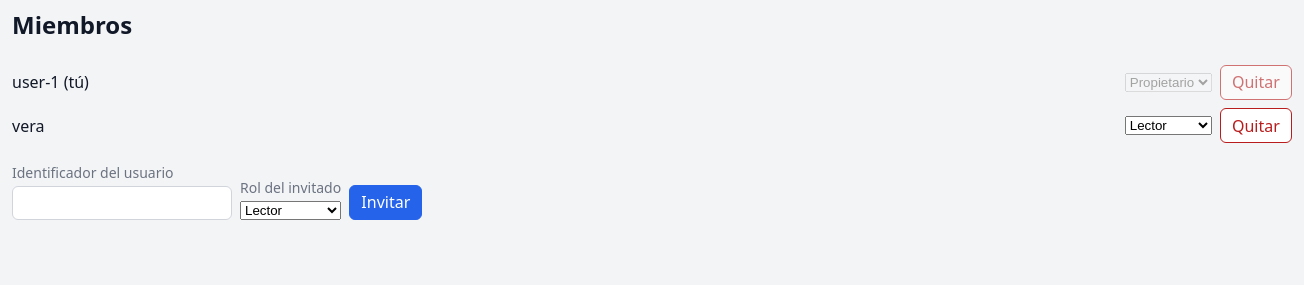
MembersPanel › invita por userId con un rol y limpia el campo
Step 1. Type "  kc-sub-9 " into the field labelled "Identificador del usuario" → (122, 203), box [12,186,232,220]
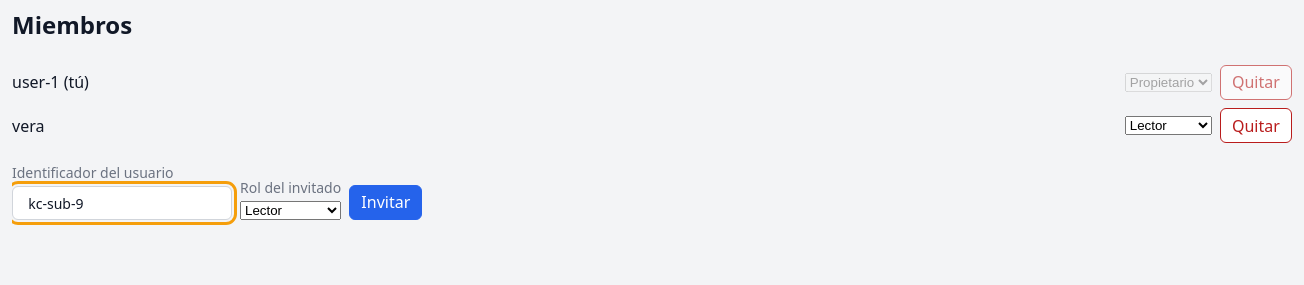
Step 2. Select "Editor" in the dropdown labelled "Rol del invitado" → (291, 210), box [240,201,341,220]
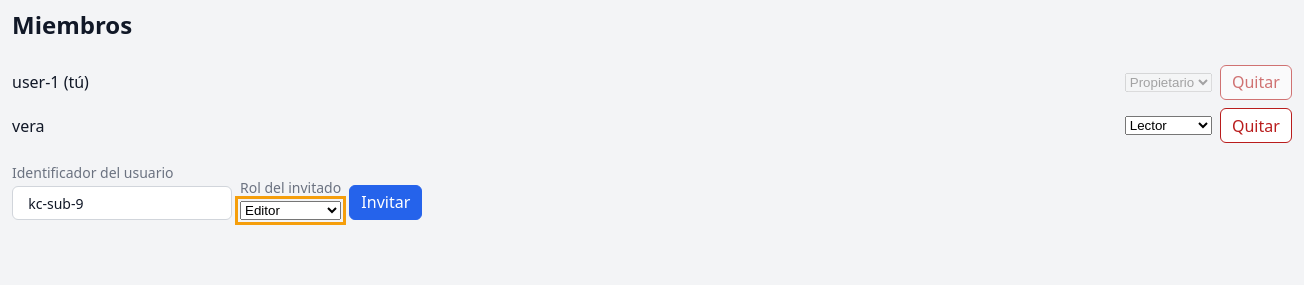
Step 3. Click the button "Invitar" → (386, 202), box [349,185,422,220]
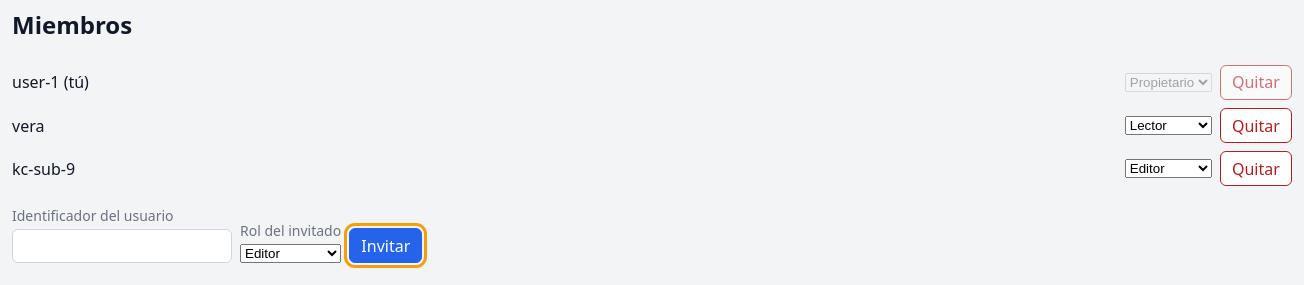
Expected: the field labelled "Identificador del usuario" is empty, [12,229,232,263]
Result: the dropdown named "Rol de kc-sub-9" shows "Editor" at [1125,159,1212,178]
